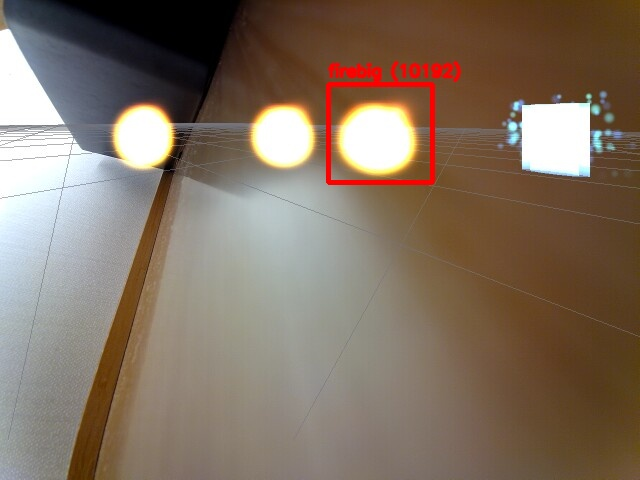firebig: (328, 84, 432, 182)
